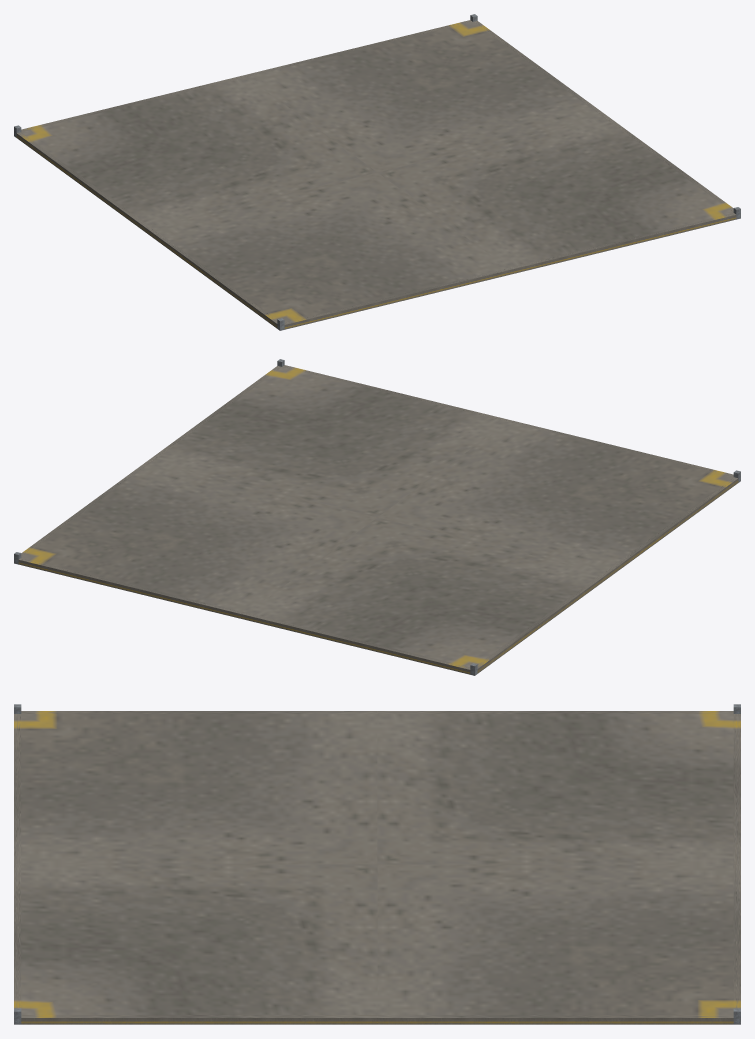
The model's file is Urban_Road2JunctionSmallSides_Model.fbx.
3 views of the same model, one above another, from view 1: azimuth 30°, elevation 25°; view 2: azimuth 150°, elevation 25°; view 3: azimuth 270°, elevation 25° (orthographic). The views are drawn at different scales.
Visible parts, largest first — view 1: Urban_Road2JunctionSmallSides_Mesh; view 2: Urban_Road2JunctionSmallSides_Mesh; view 3: Urban_Road2JunctionSmallSides_Mesh.
Boxes of the visible parts, x1,y1,x2,y2 form: Urban_Road2JunctionSmallSides_Mesh: (14,14,740,330); Urban_Road2JunctionSmallSides_Mesh: (14,359,740,675); Urban_Road2JunctionSmallSides_Mesh: (14,704,740,1024).
Size of the model in its own units: 16 by 0.32 by 16.
